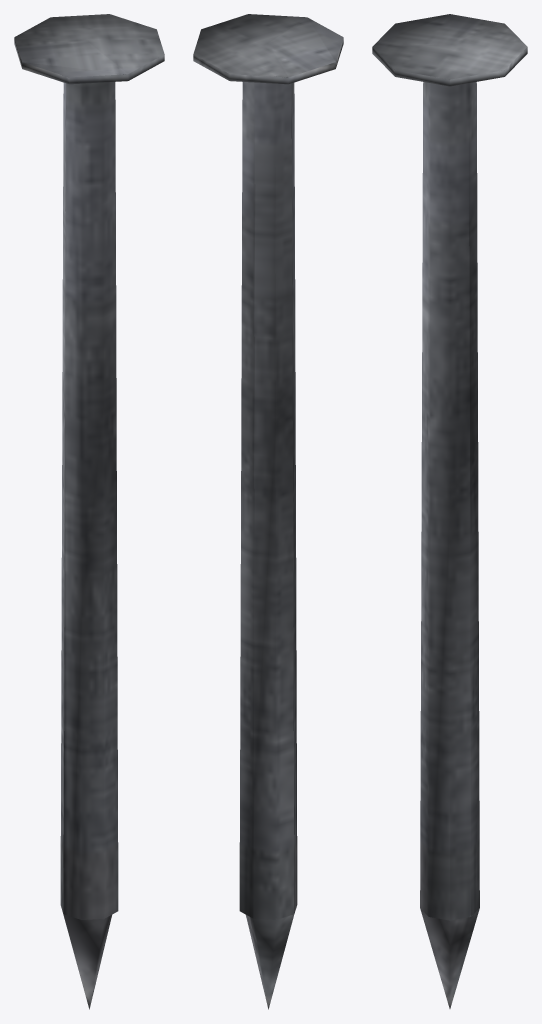
The model's file is Nail bender.obj.
3 renders of one model, left to right at view 1: azimuth 30°, elevation 25°; view 2: azimuth 150°, elevation 25°; view 3: azimuth 270°, elevation 25°, orthographic.
Parts seen in each view (by area): view 1: nail_Circle.001; view 2: nail_Circle.001; view 3: nail_Circle.001.
Boxes of the visible parts, left/top/right/bottom form: nail_Circle.001: left=14, top=14, right=164, bottom=1009; nail_Circle.001: left=193, top=14, right=343, bottom=1009; nail_Circle.001: left=372, top=14, right=527, bottom=1008.
Bounding box in the file's own units: 0.3944 × 2.71 × 0.3944.
